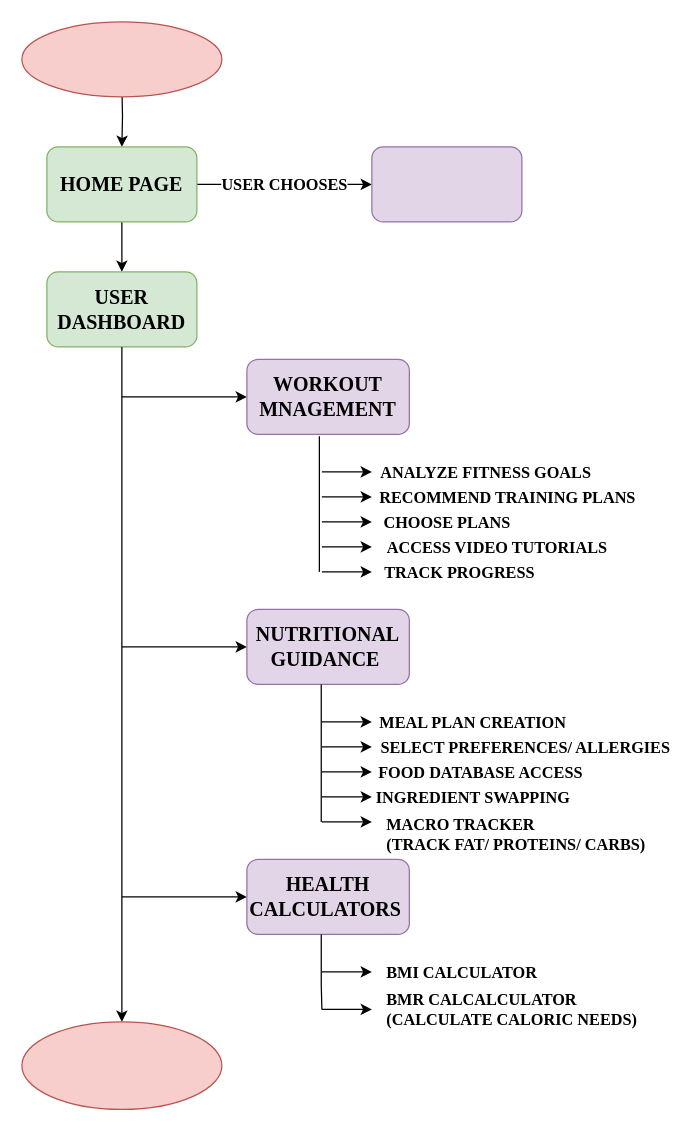
Some shapes in this 691 by 1131 pixel diagram are drawn without their labels. Here are the shapes that lost their labels. From the top down, the box of each, then its label:
(21, 21, 222, 97): START
(371, 146, 522, 222): SIGN UP / LOGIN
(21, 1021, 222, 1109): END
